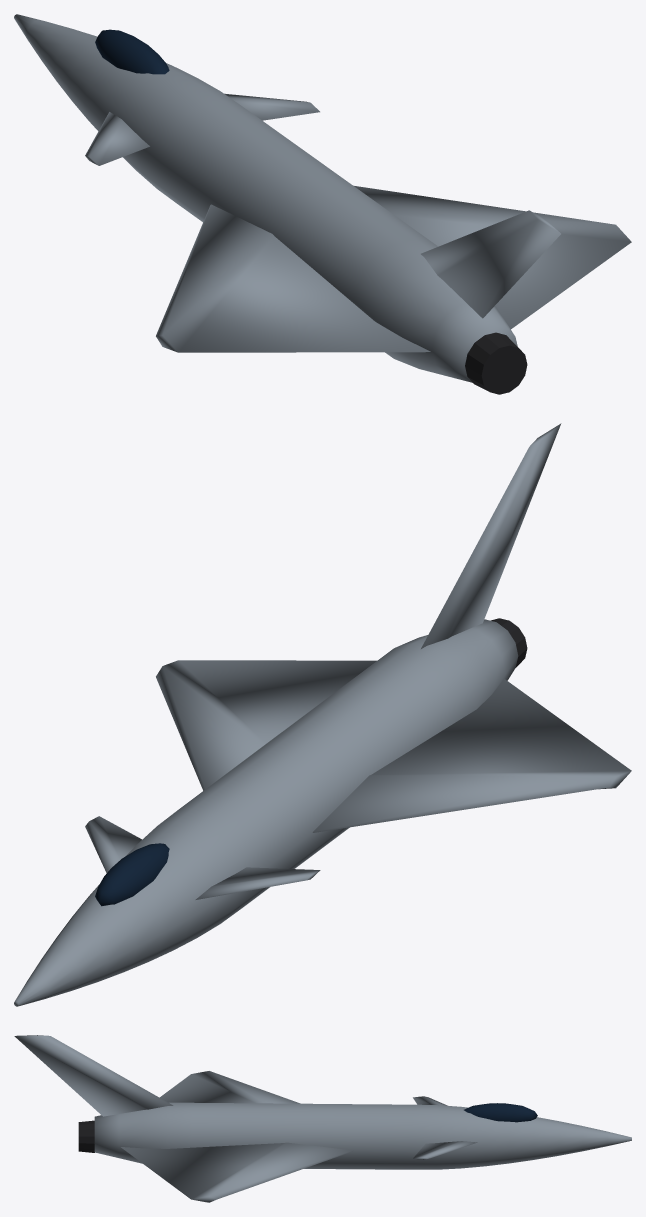
File: gripen.obj
3 views of the same model, one above another, from view 1: azimuth 30°, elevation 25°; view 2: azimuth 150°, elevation 25°; view 3: azimuth 270°, elevation 25° (orthographic). The views are drawn at different scales.
Parts seen in each view (by area): view 1: Body, Detail, Canopy; view 2: Body, Canopy; view 3: Body, Canopy, Detail.
Part boxes in pixels (x1,y1,x2,y2): Body: (14, 14, 631, 382); Detail: (465, 332, 527, 394); Canopy: (95, 29, 169, 74); Body: (14, 423, 631, 1006); Canopy: (95, 843, 169, 906); Body: (14, 1035, 631, 1202); Canopy: (464, 1103, 537, 1122); Detail: (78, 1120, 94, 1152).
Bounding box in the file's own units: 8.4 × 4.08 × 17.48.
